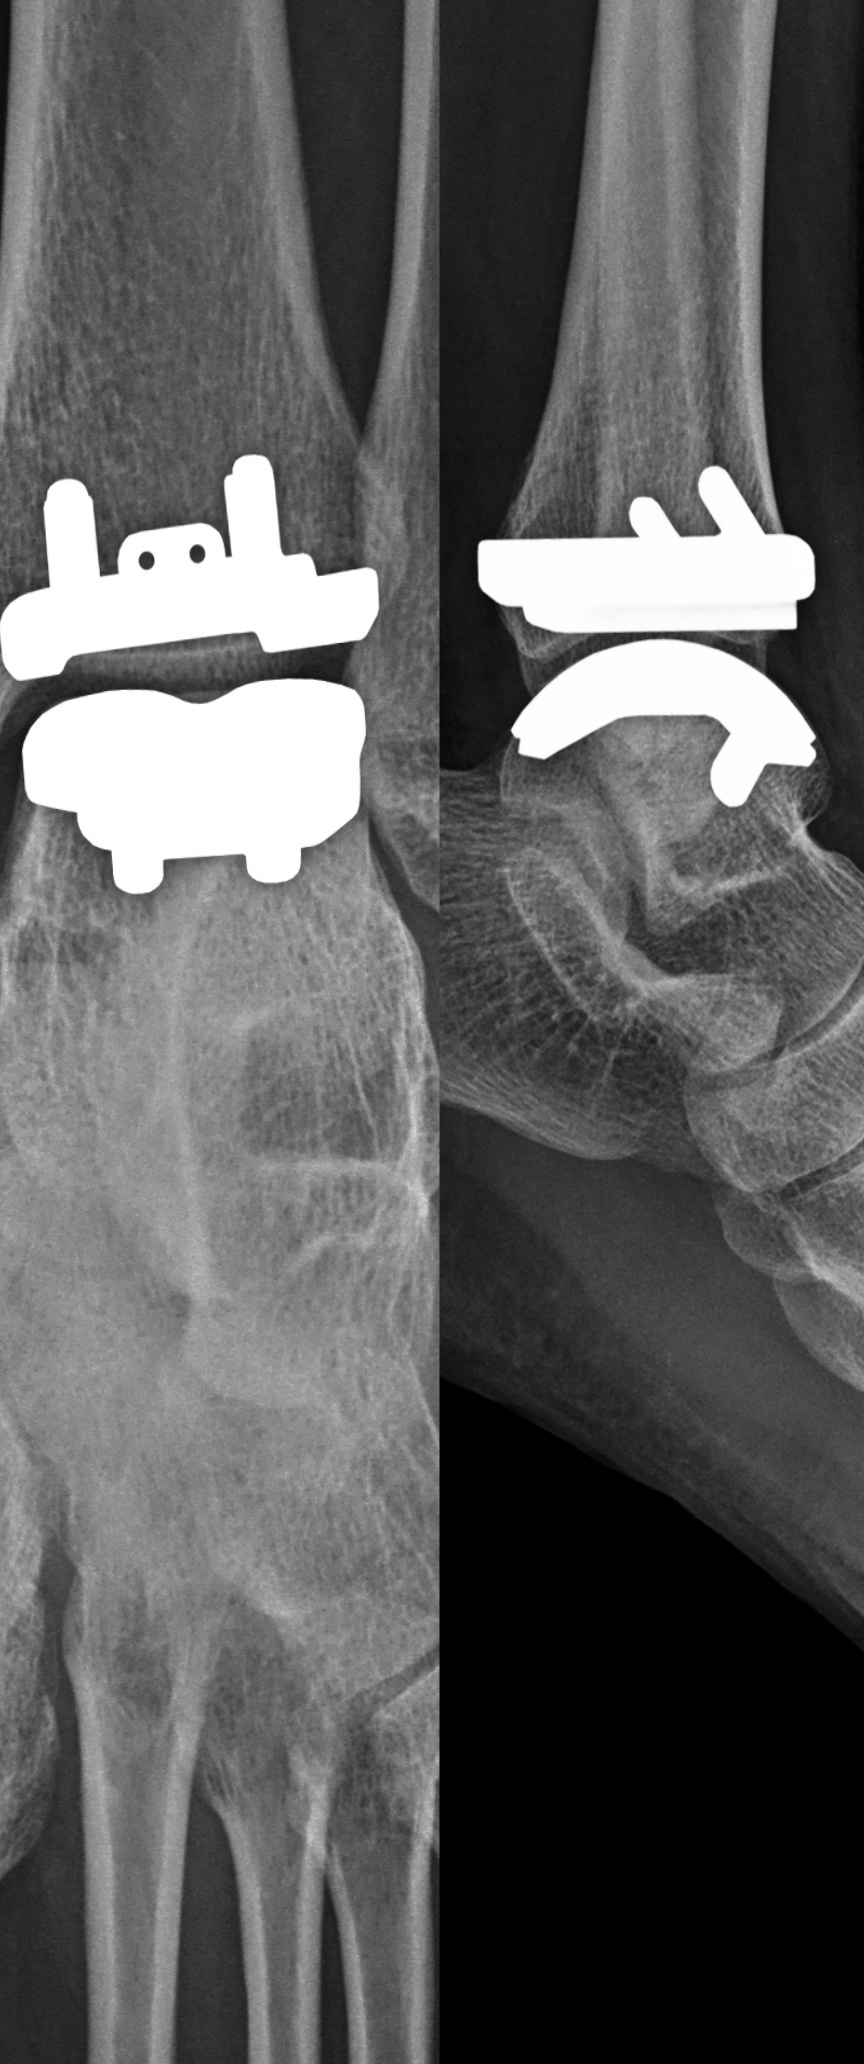Cadence-Integra: (1, 440, 386, 908), (465, 450, 860, 817)
